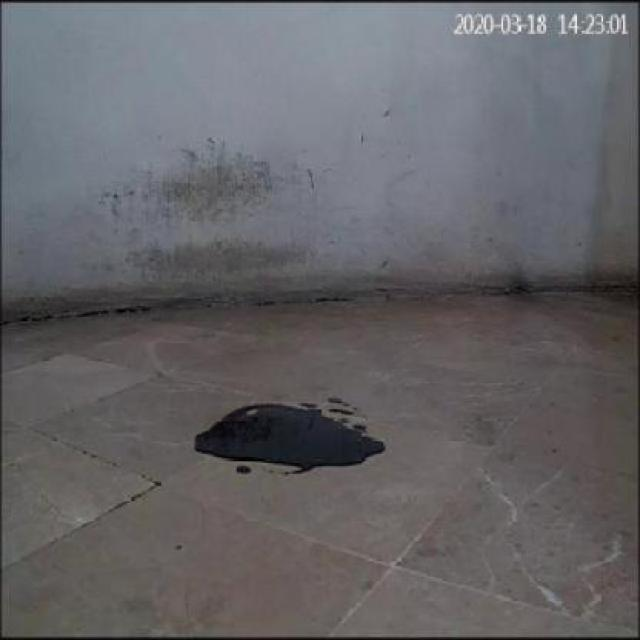spillage: (197, 403, 387, 467)
